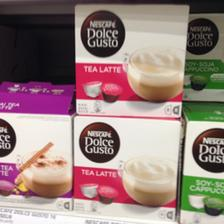Kaffee: (71, 1, 189, 117), (70, 113, 182, 223), (0, 80, 72, 211)
